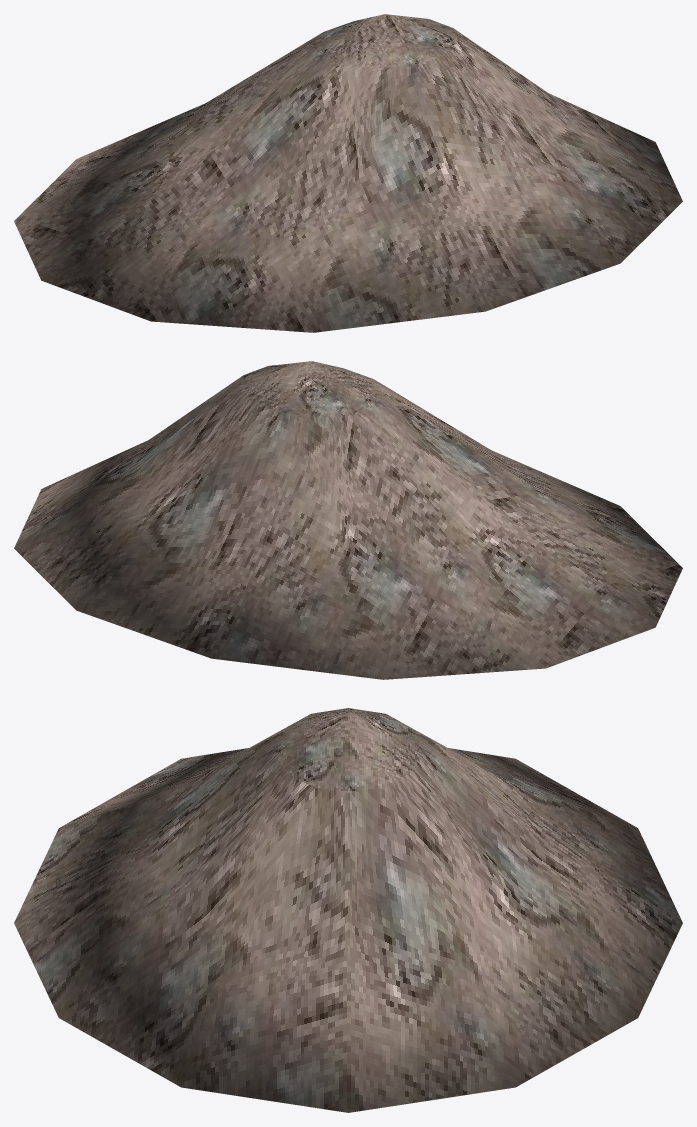
File: dirtpile.glb
3 views of the same model, one above another, from view 1: azimuth 30°, elevation 25°; view 2: azimuth 150°, elevation 25°; view 3: azimuth 270°, elevation 25° (orthographic). The views are drawn at different scales.
Parts seen in each view (by area): view 1: dirtpile.ms3d.mo; view 2: dirtpile.ms3d.mo; view 3: dirtpile.ms3d.mo.
Part boxes in pixels (box(x1,y1,x2,y2)): dirtpile.ms3d.mo: box(14, 14, 682, 332); dirtpile.ms3d.mo: box(14, 361, 682, 679); dirtpile.ms3d.mo: box(14, 708, 682, 1112).
Bounding box in the file's own units: 28.02 × 8.45 × 21.65.
1 material, 1 textured.
